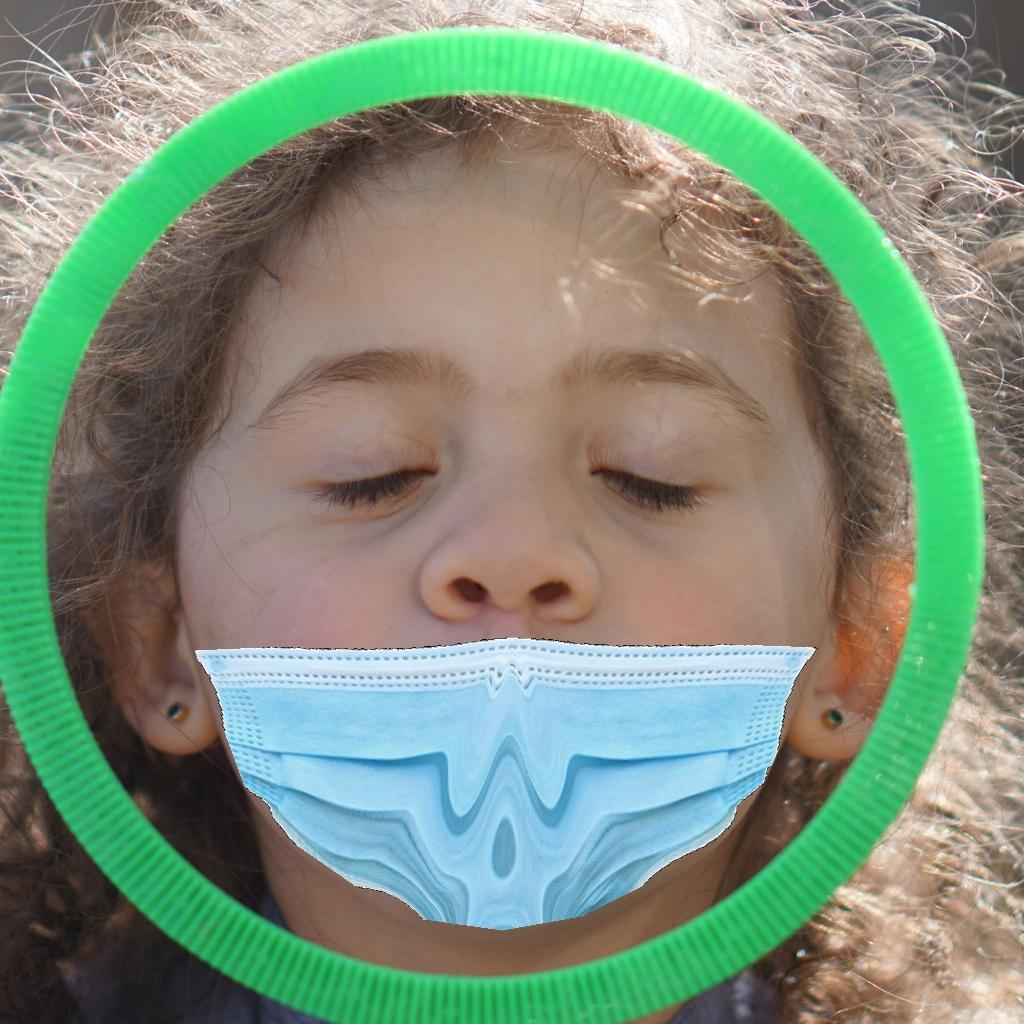Máscara Incorreta: (146, 168, 854, 940)
